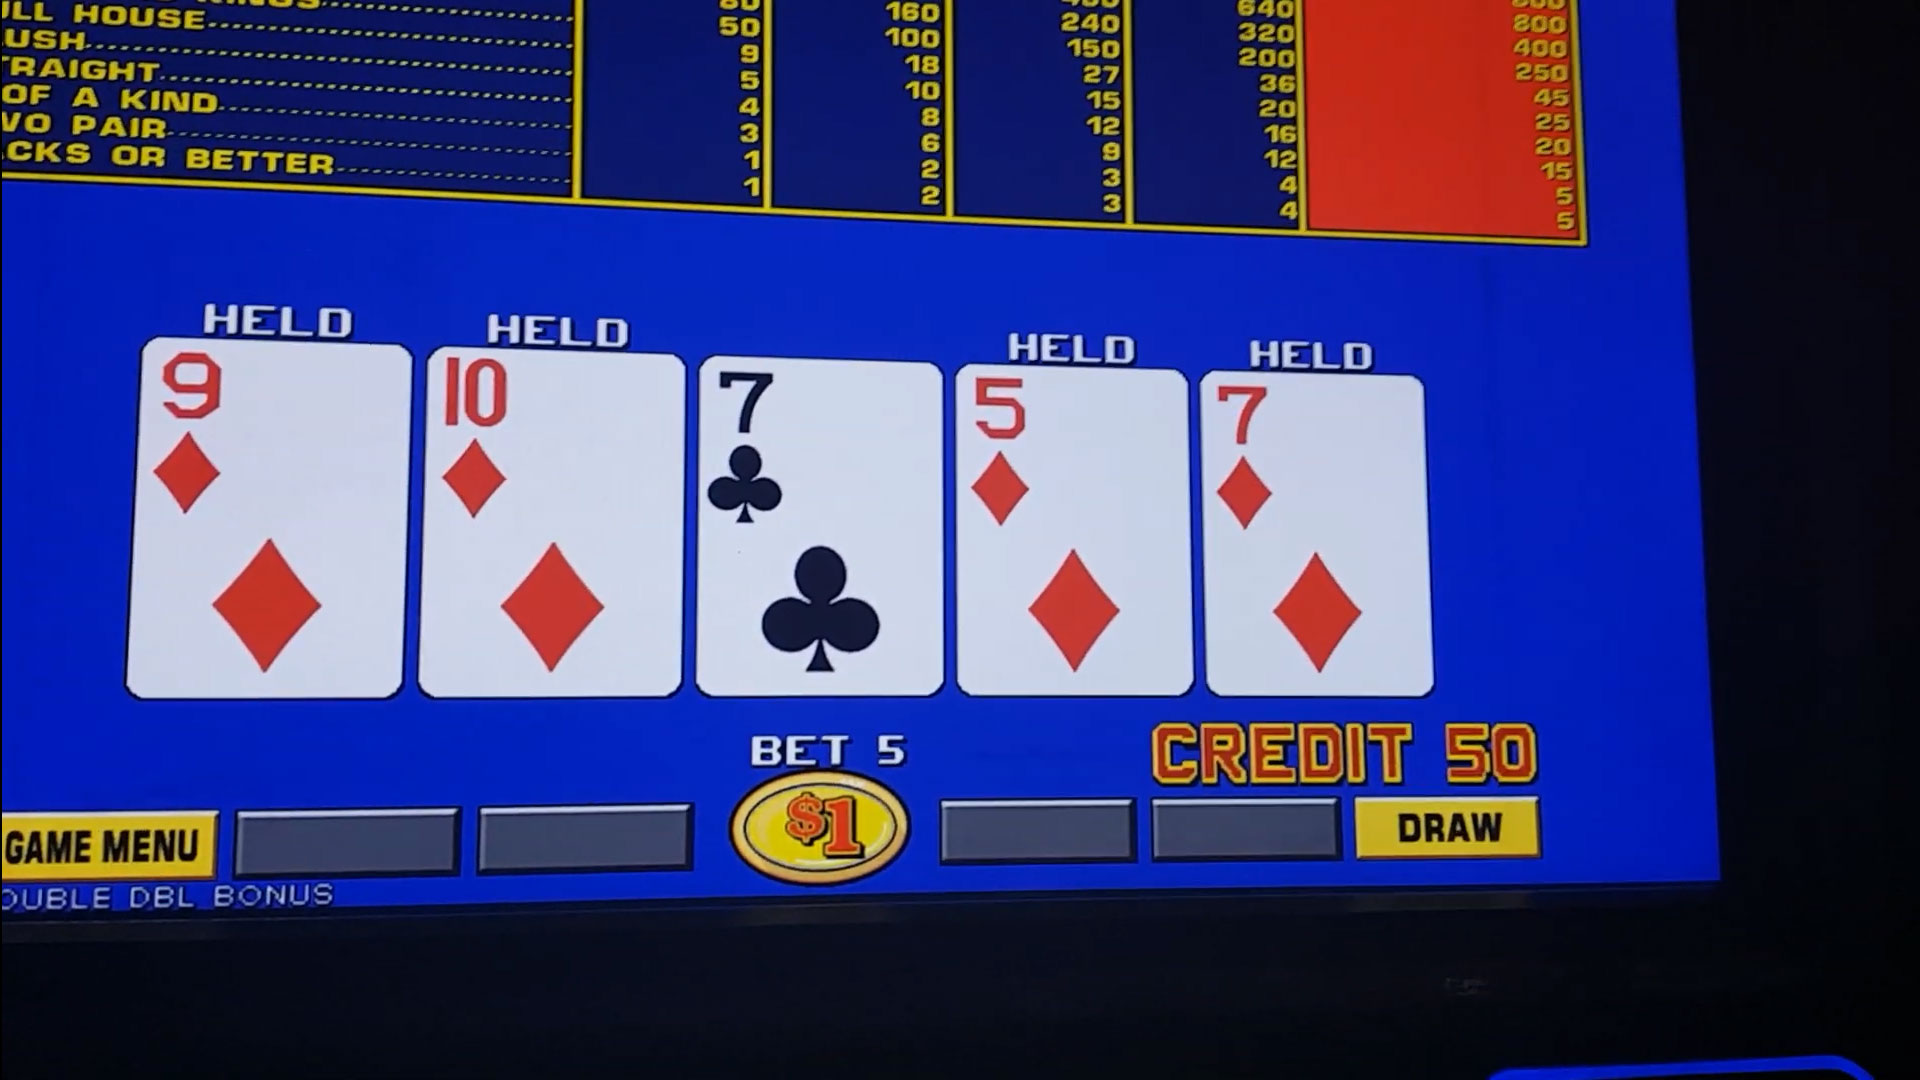C7: (702, 367, 938, 531)
D5: (963, 373, 1183, 539)
D7: (1207, 382, 1414, 545)
D9: (150, 347, 405, 522)
DT: (439, 359, 678, 529)
